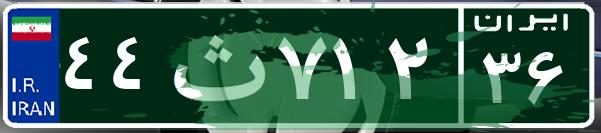1: (330, 28, 385, 110)
2: (385, 28, 445, 110)
3: (475, 38, 525, 113)
4: (57, 26, 110, 107), (110, 28, 158, 105)
6: (525, 38, 570, 115)
7: (273, 28, 330, 110)
ث: (158, 15, 273, 115)
